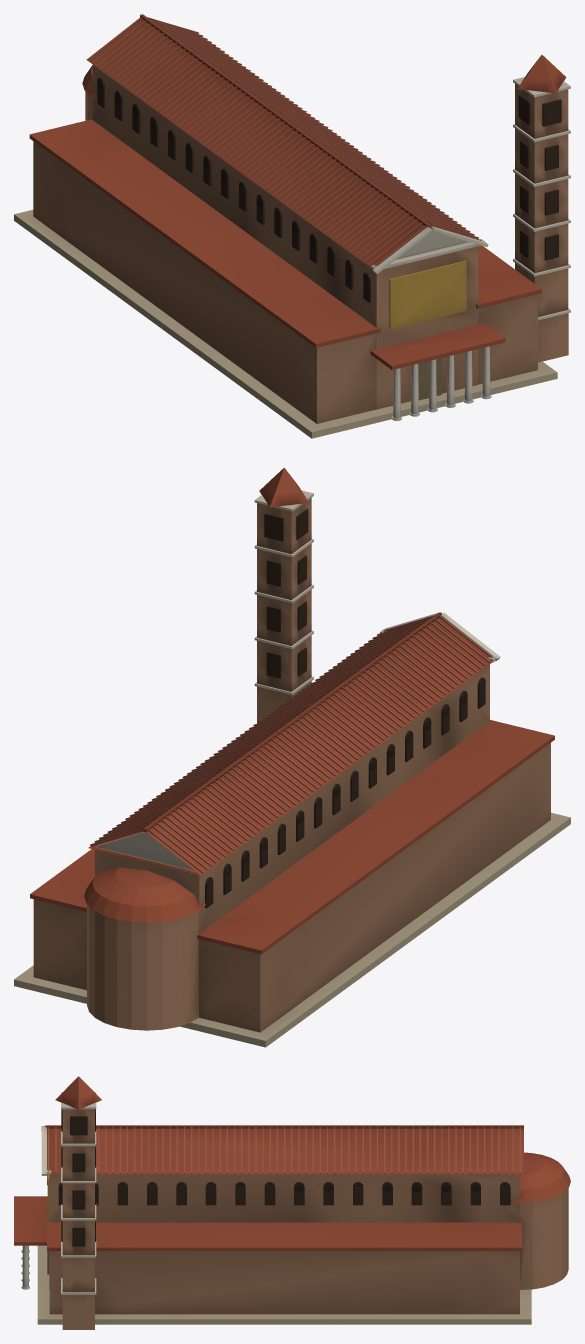
File: santa-maria-maggiore.glb
3 views of the same model, one above another, from view 1: azimuth 30°, elevation 25°; view 2: azimuth 150°, elevation 25°; view 3: azimuth 270°, elevation 25° (orthographic). The views are drawn at different scales.
Parts seen in each view (by area): view 1: p2_campanile, p1_porch, p0_base; view 2: p2_campanile, p1_porch, p0_base; view 3: p1_porch, p2_campanile, p0_base.
Part boxes in pixels (left/top/right/bottom): p2_campanile: left=29, top=14, right=570, bottom=369; p1_porch: left=33, top=65, right=537, bottom=423; p0_base: left=14, top=209, right=557, bottom=438; p2_campanile: left=30, top=467, right=554, bottom=954; p1_porch: left=33, top=664, right=550, bottom=1032; p0_base: left=14, top=812, right=570, bottom=1047; p1_porch: left=21, top=1174, right=568, bottom=1314; p2_campanile: left=14, top=1076, right=570, bottom=1329; p0_base: left=37, top=1245, right=531, bottom=1324.
Size of the model in its own units: 45.5 by 47.3 by 94.68.
